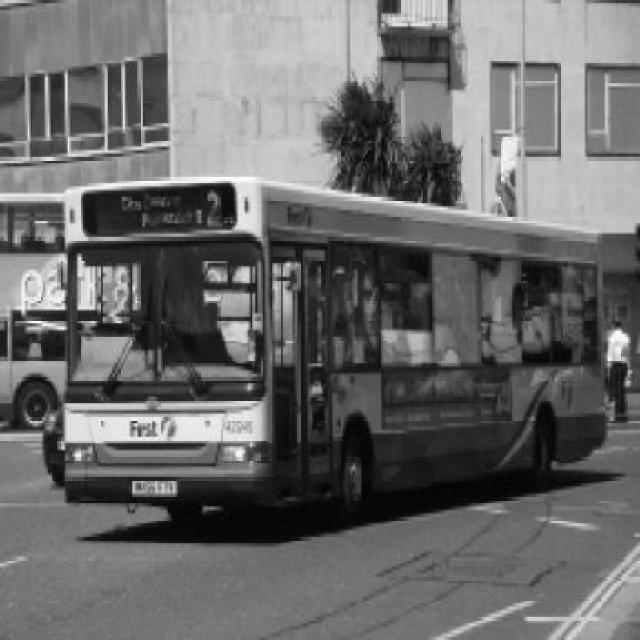Bus: (48, 176, 612, 528)
